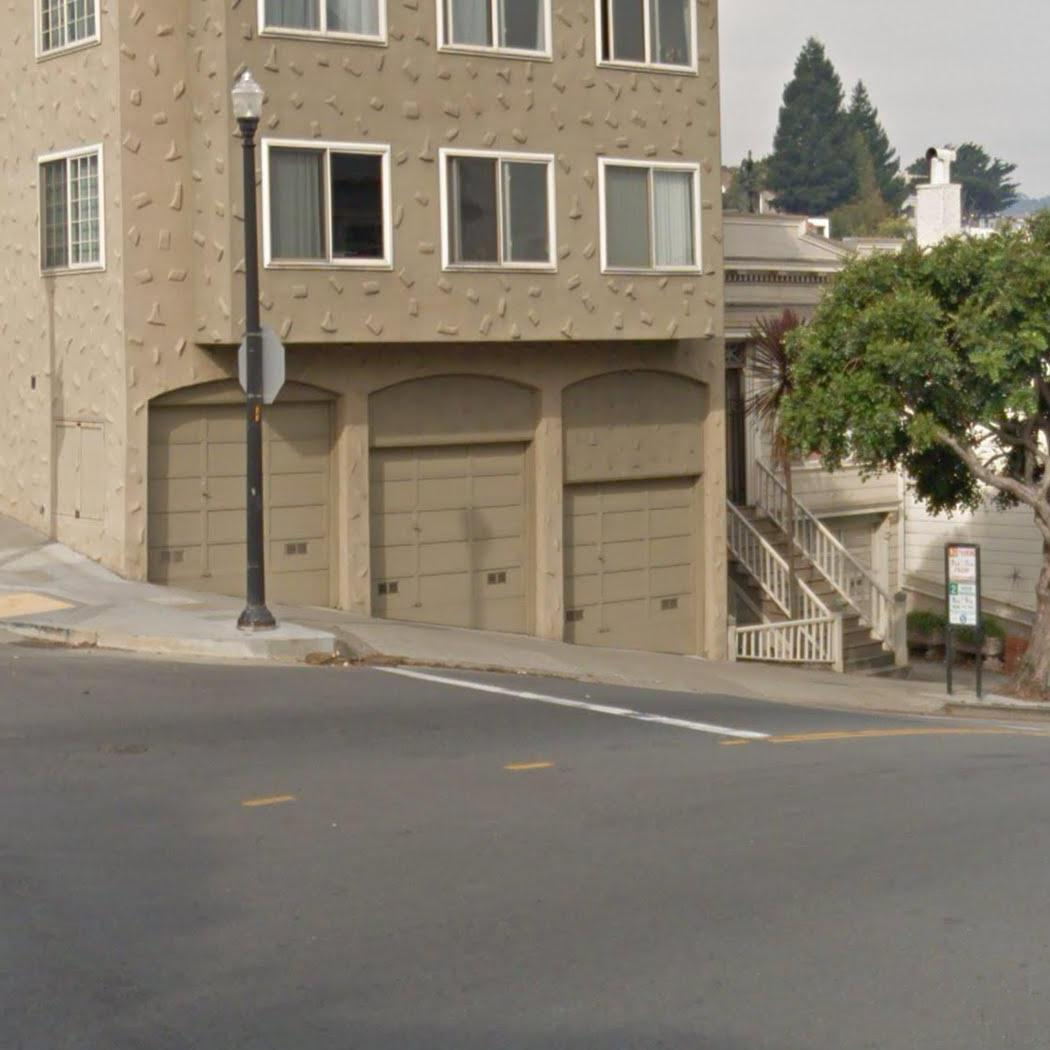2 Hour Parking: (945, 582, 981, 628)
No Parking: (945, 542, 980, 583)
